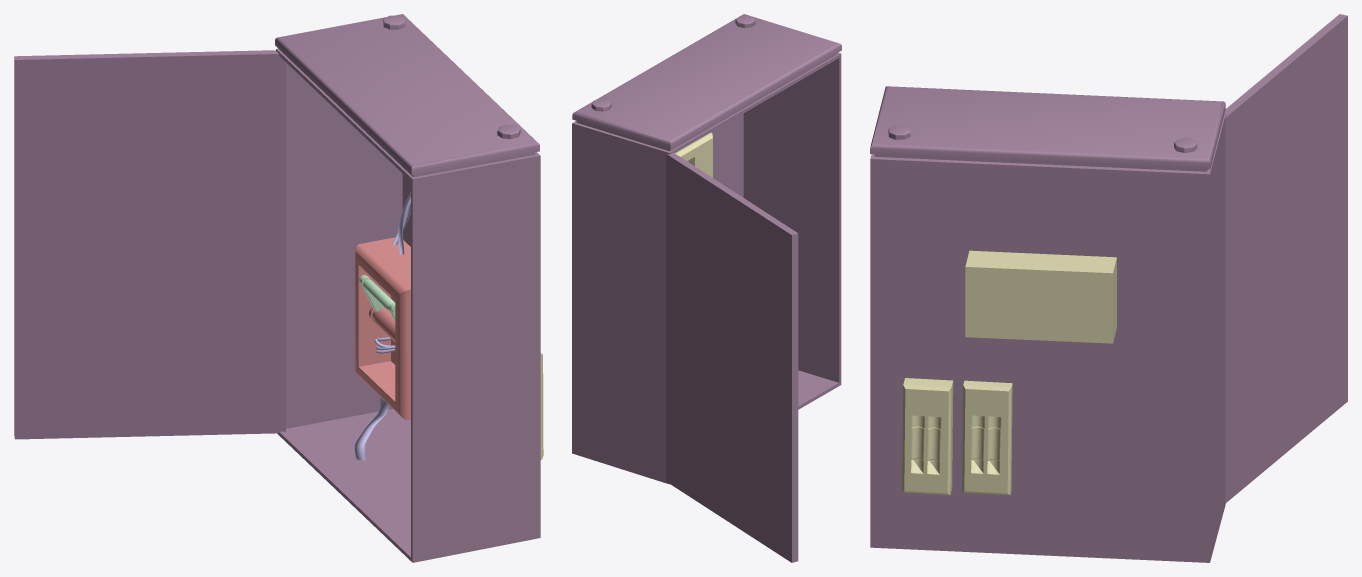
The model's file is Fusebox.fbx.
3 views of the same model, side by side, from view 1: azimuth 30°, elevation 25°; view 2: azimuth 150°, elevation 25°; view 3: azimuth 270°, elevation 25° (orthographic). The views are drawn at different scales.
Visible parts, largest first — view 1: Cube.001, Box, Wires, Hand_e; view 2: Cube.001, polySurface4; view 3: Cube.001, polySurface4, Wirebox.
Boxes of the visible parts, x1,y1,x2,y2 form: Cube.001: (14,14,540,562); Box: (355,237,410,420); Wires: (354,191,410,460); Hand_e: (359,275,395,321); Cube.001: (572,14,841,562); polySurface4: (675,132,712,177); Cube.001: (870,14,1347,562); polySurface4: (965,250,1116,343); Wirebox: (902,378,1012,495).
Size of the model in its own units: 151 by 167 by 176.
